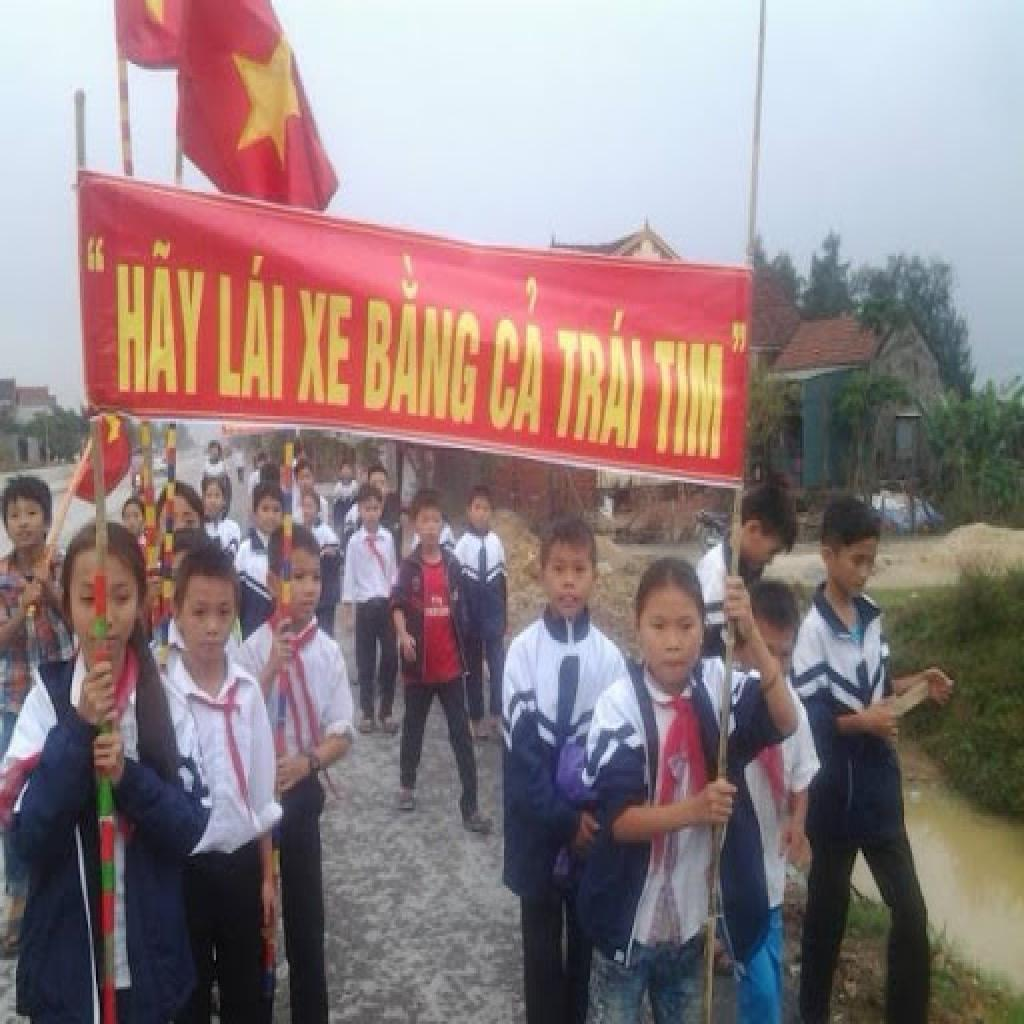text: (362, 248, 490, 429), (112, 235, 210, 405), (552, 301, 646, 456), (648, 333, 730, 464), (216, 251, 286, 400), (486, 275, 548, 437), (292, 288, 354, 408), (84, 230, 110, 278), (728, 320, 752, 357)
